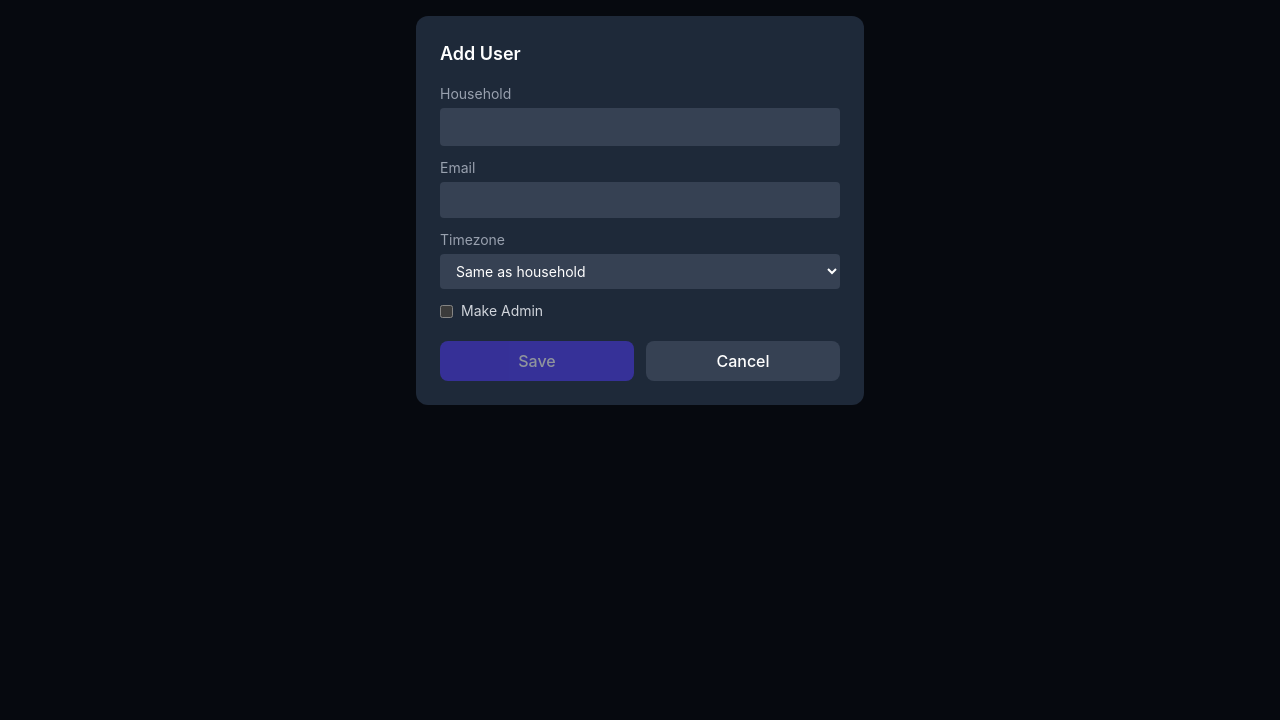
Test: AddUserModal › disables Save until a household is selected and an email is entered
Expected: the button "Save" is disabled, [440,341,634,381]
Click the dropdown labelled "Household": (640, 127) [440,108,840,146]
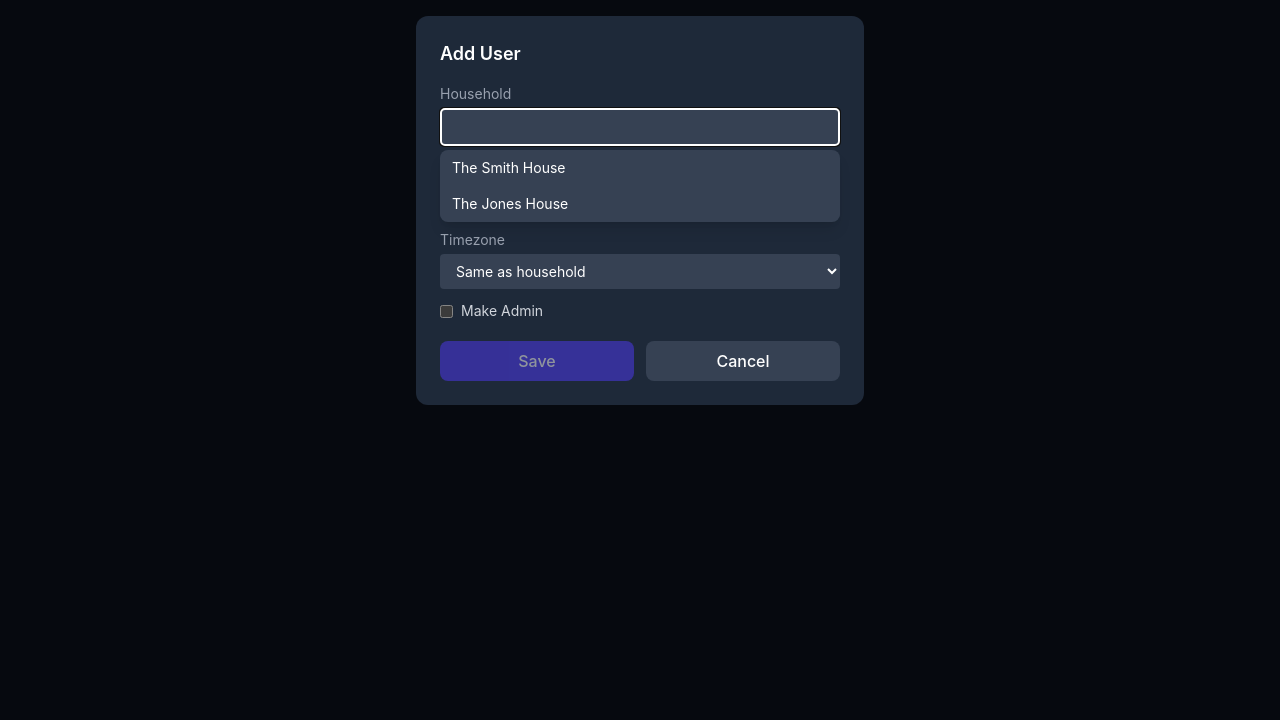
Click the option "The Smith House": (509, 168) [452,159,566,176]
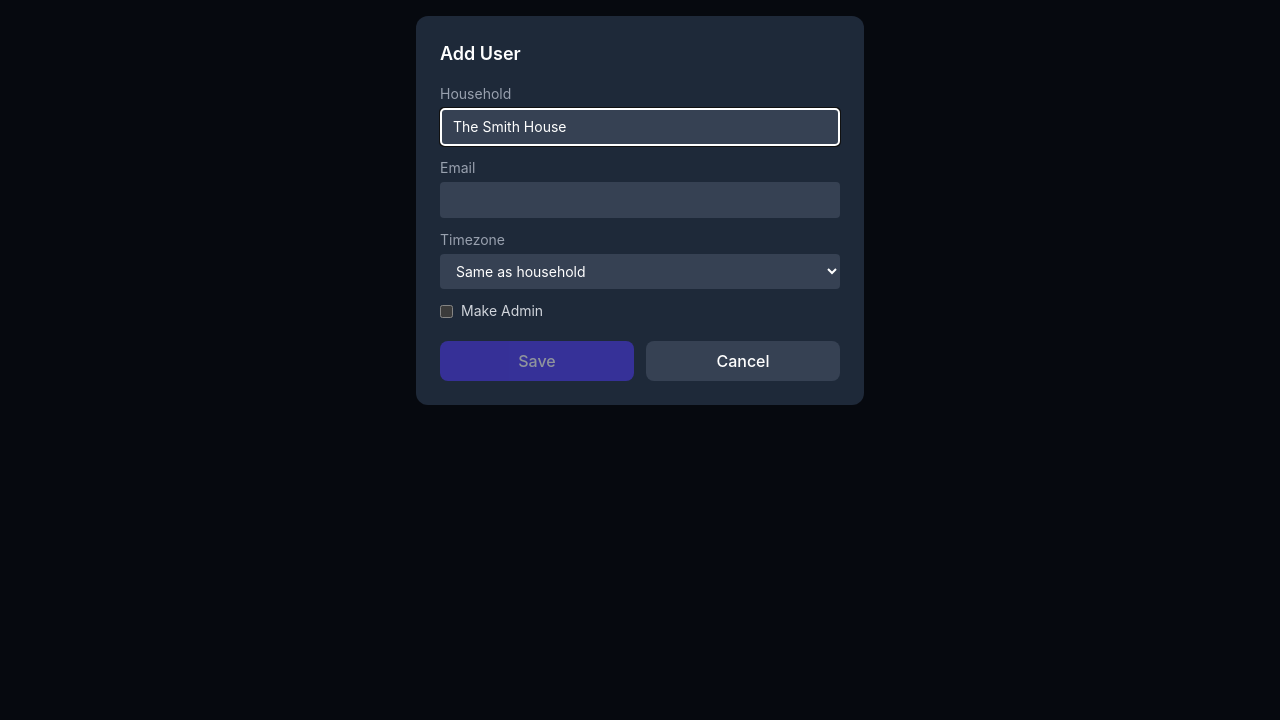
Expected: the button "Save" is disabled, [440,341,634,381]
In the field labelled "Email": (640, 200) [440,182,840,218], type "new@example.com"
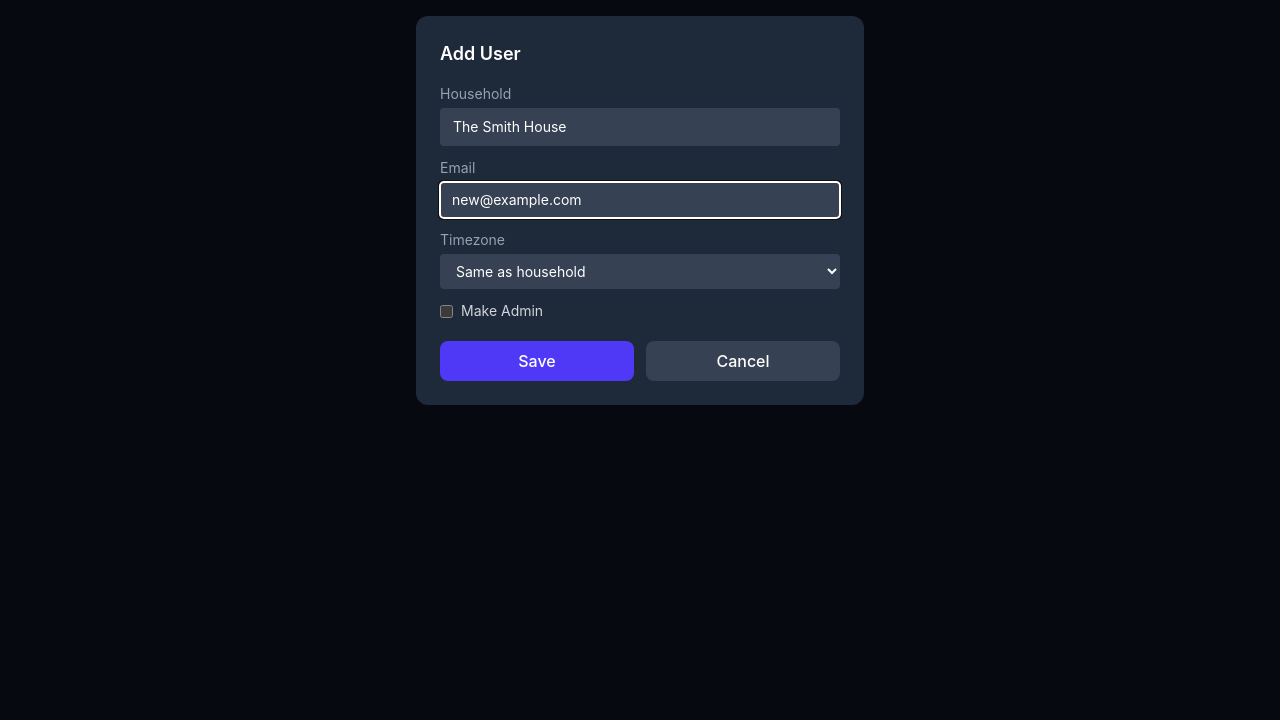
Expected: the button "Save" is enabled, [440,341,634,381]
